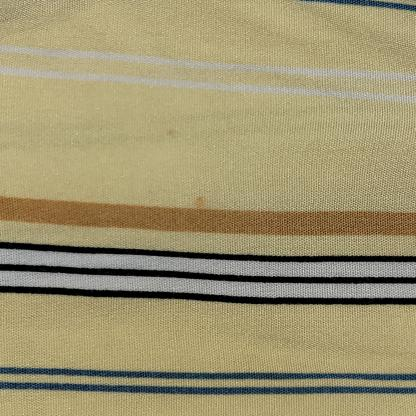spot: (188, 191, 216, 217), (158, 123, 189, 143)
